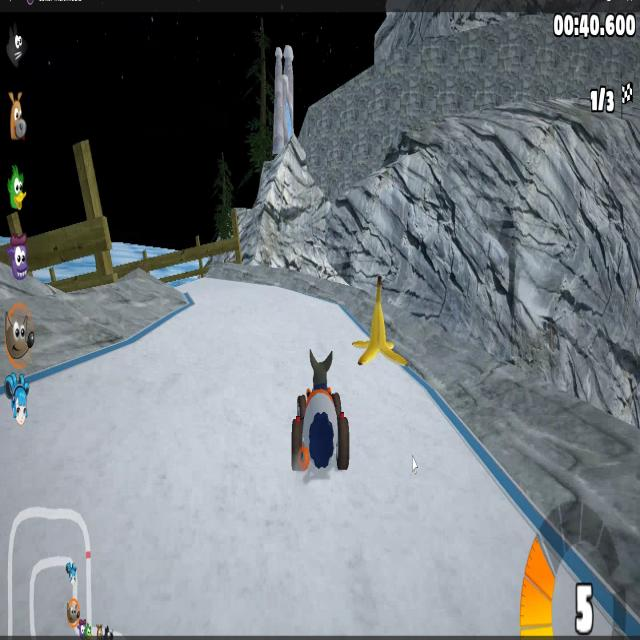obstacle: (357, 278, 407, 388)
off_track: (45, 269, 173, 325)
player_kart: (288, 338, 352, 502)
track: (111, 349, 279, 530), (188, 276, 313, 345)
